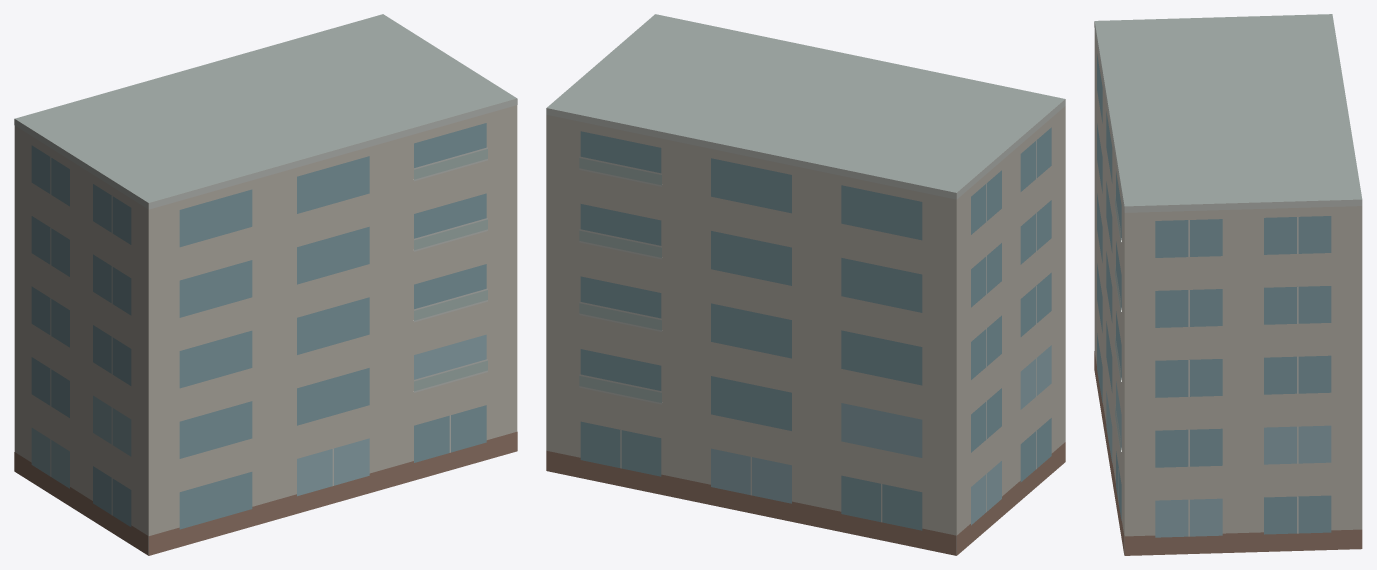
Rendered from survey-upis-32698595.glb.
The picture shows the model from 3 angles, left to right: view 1: azimuth 30°, elevation 25°; view 2: azimuth 150°, elevation 25°; view 3: azimuth 270°, elevation 25°; orthographic projection. The views are drawn at different scales.
Visible parts, largest first — view 1: survey-upis-32698595.tmp; view 2: survey-upis-32698595.tmp; view 3: survey-upis-32698595.tmp.
Part boxes in pixels (<box>): survey-upis-32698595.tmp: <box>14,14,517,555</box>; survey-upis-32698595.tmp: <box>546,14,1065,555</box>; survey-upis-32698595.tmp: <box>1094,14,1362,555</box>.
Size of the model in its own units: 15.53 by 13.15 by 9.14.
